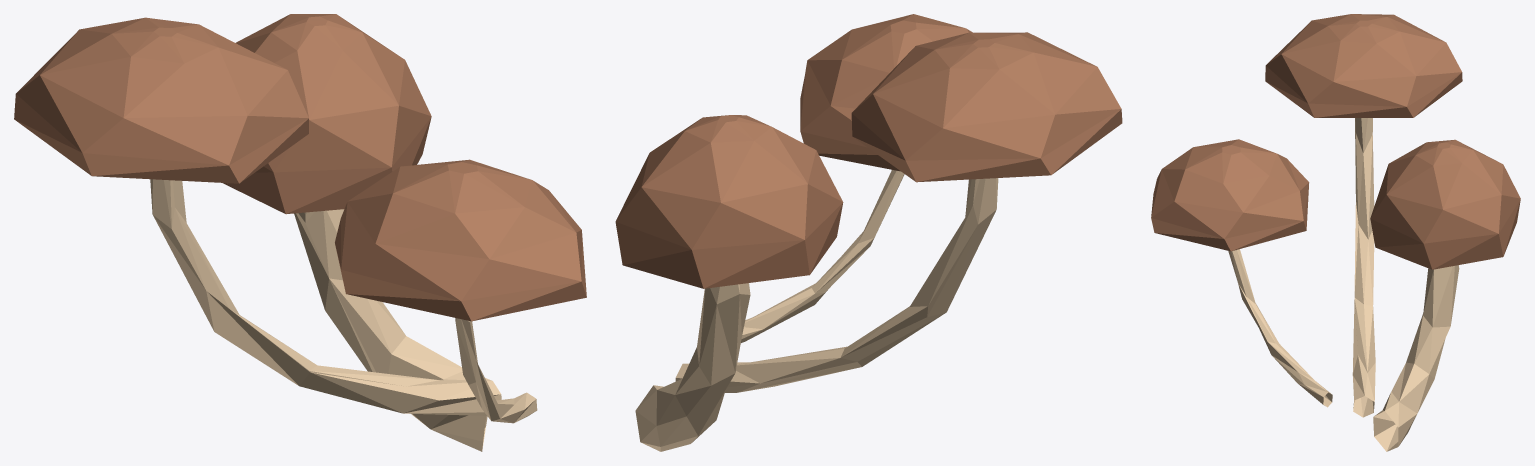
Rendered from Mushroom 5.fbx.
The picture shows the model from 3 angles, left to right: view 1: azimuth 30°, elevation 25°; view 2: azimuth 150°, elevation 25°; view 3: azimuth 270°, elevation 25°; orthographic projection. The views are drawn at different scales.
Parts seen in each view (by area): view 1: Mushroom 5; view 2: Mushroom 5; view 3: Mushroom 5.
Boxes of the visible parts, x1=… form: Mushroom 5: x1=14, y1=14, x2=586, y2=451; Mushroom 5: x1=615, y1=14, x2=1122, y2=451; Mushroom 5: x1=1151, y1=14, x2=1520, y2=451.
Size of the model in its own units: 0.2435 by 0.255 by 0.2627.
